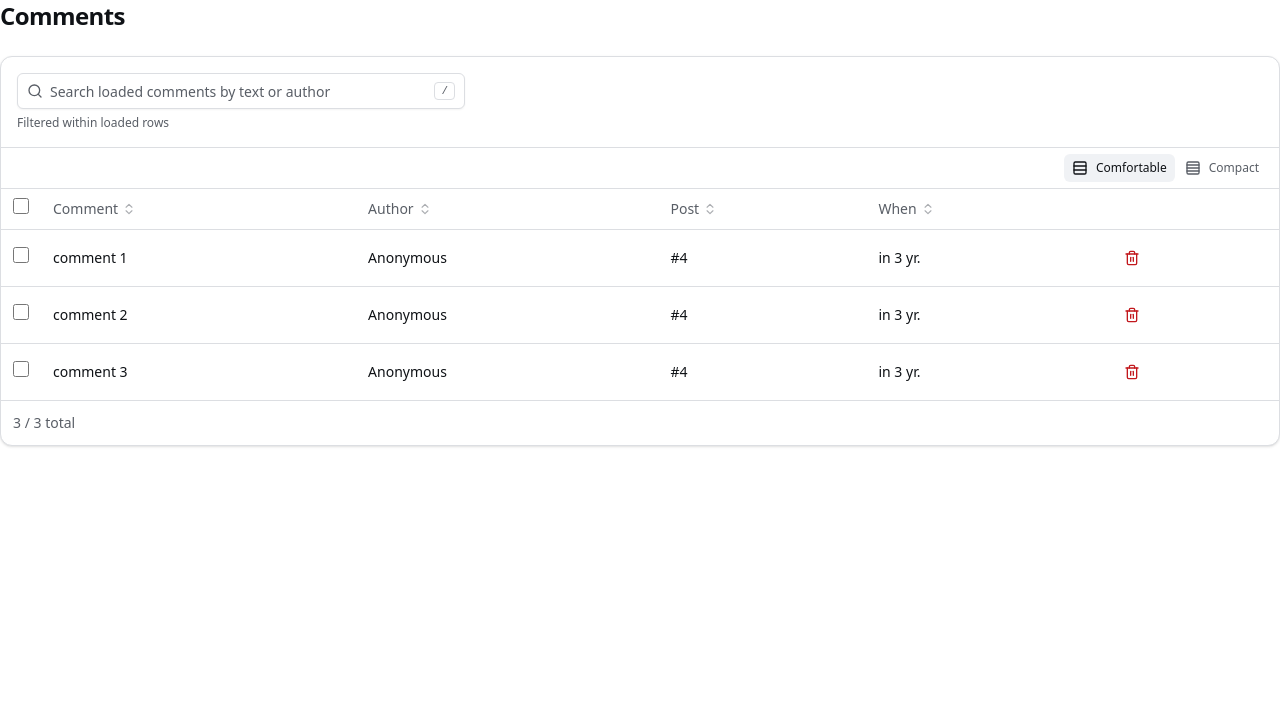
Test: CommentsPage › reports partial failure once and re-selects only the failed rows
Step 1. Click the checkbox named "Select all rows" → (21, 206), box [13,198,29,214]
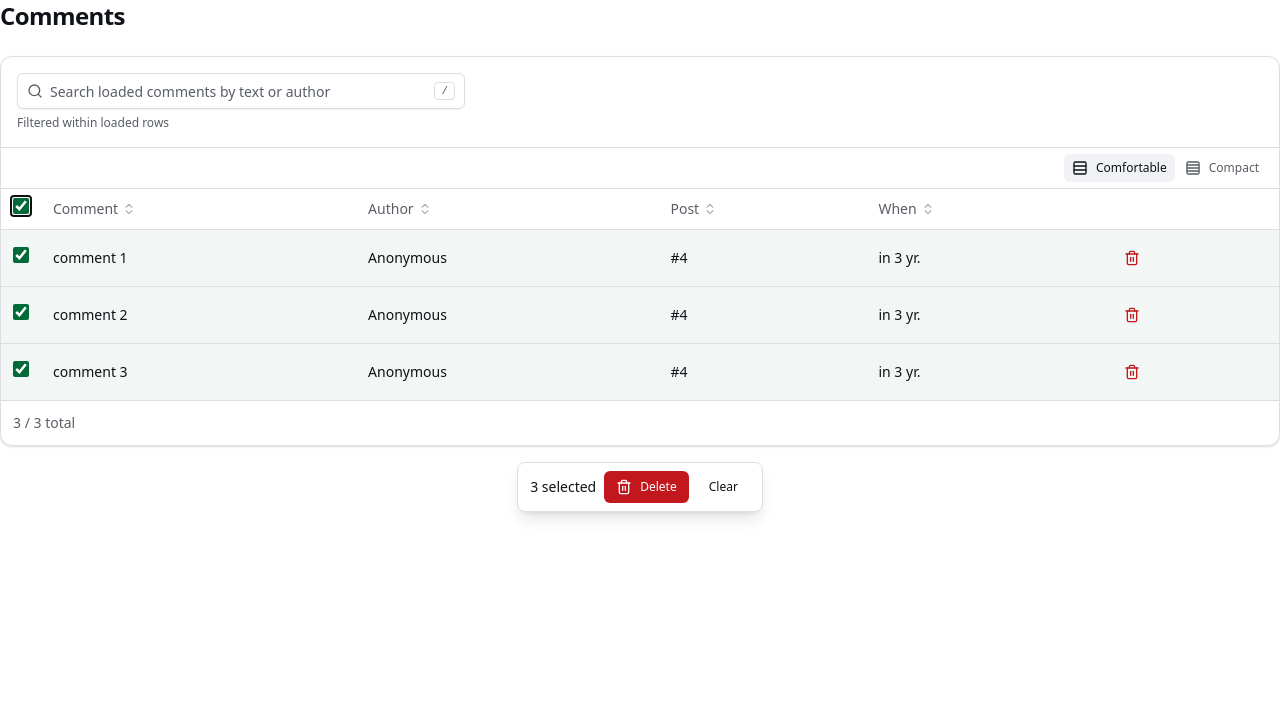
Step 2. Click the button "Delete" → (646, 486), box [604,470,689,502]
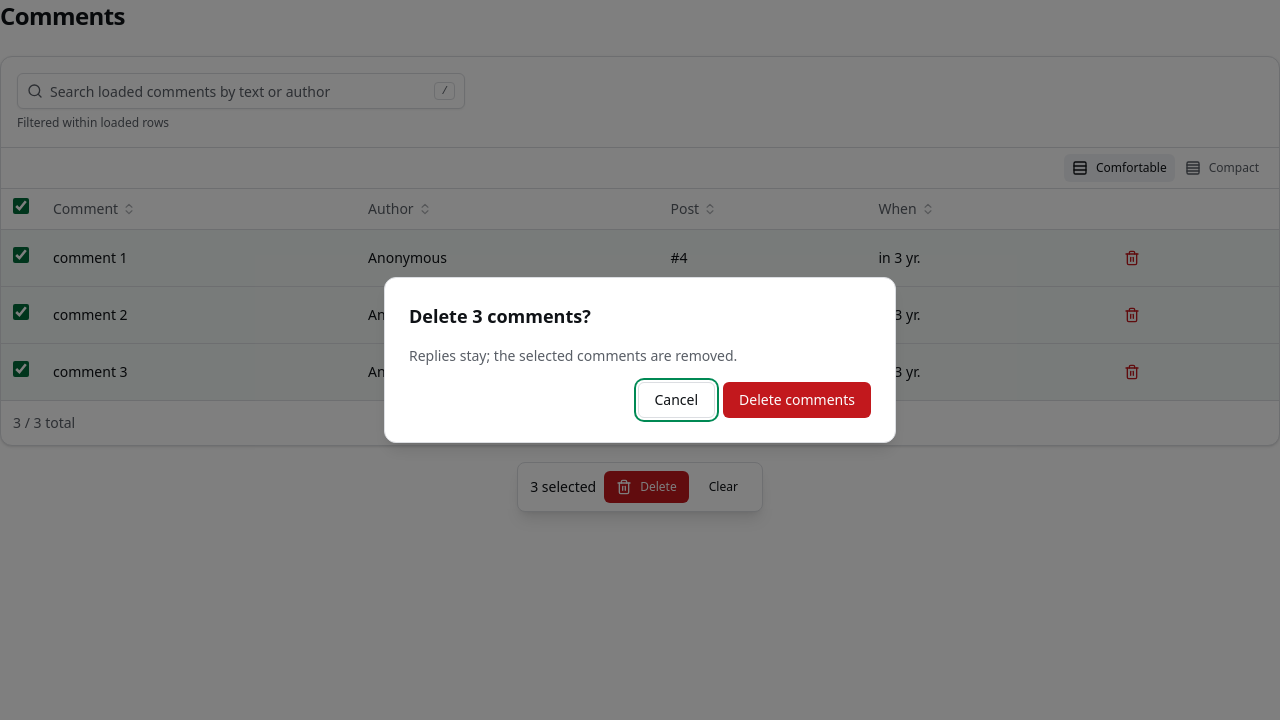
Step 3. Click the button "Delete comments" → (797, 400), box [723,382,871,418]
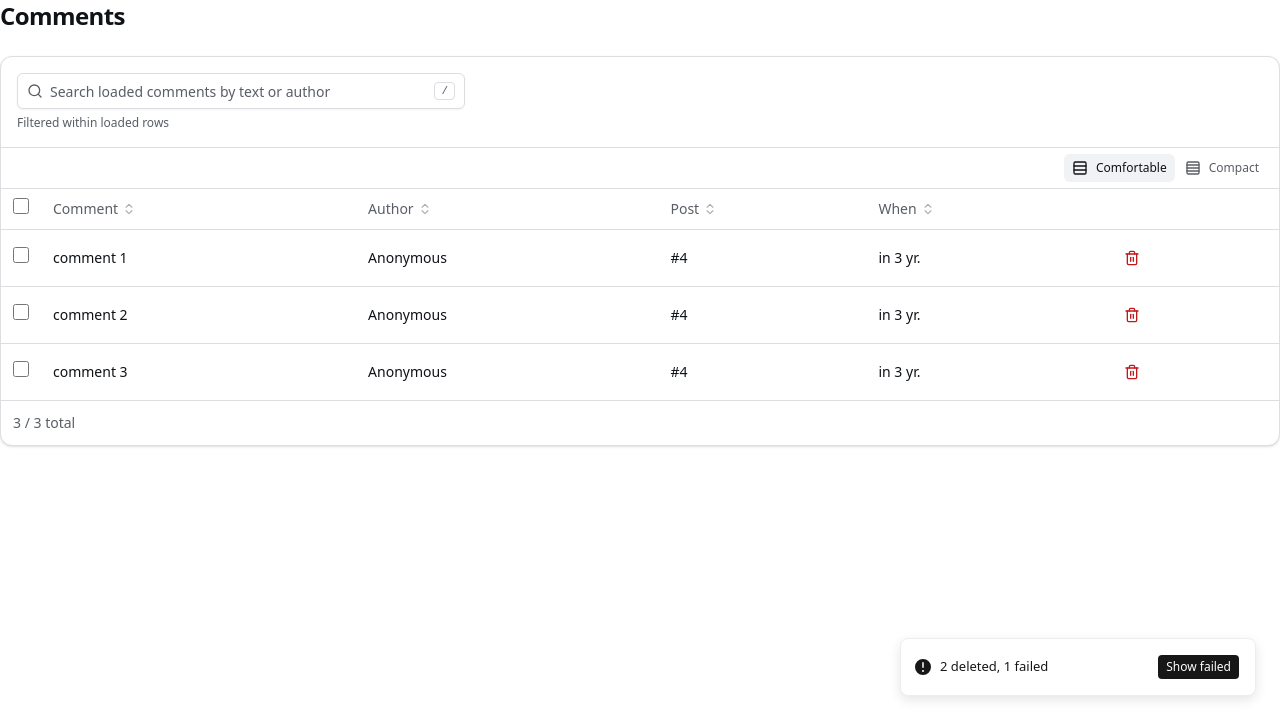
Result: the text "2 deleted, 1 failed" is shown at [940,657,1048,677]
Step 4. Click the button "Show failed" → (1199, 667), box [1158,655,1239,679]
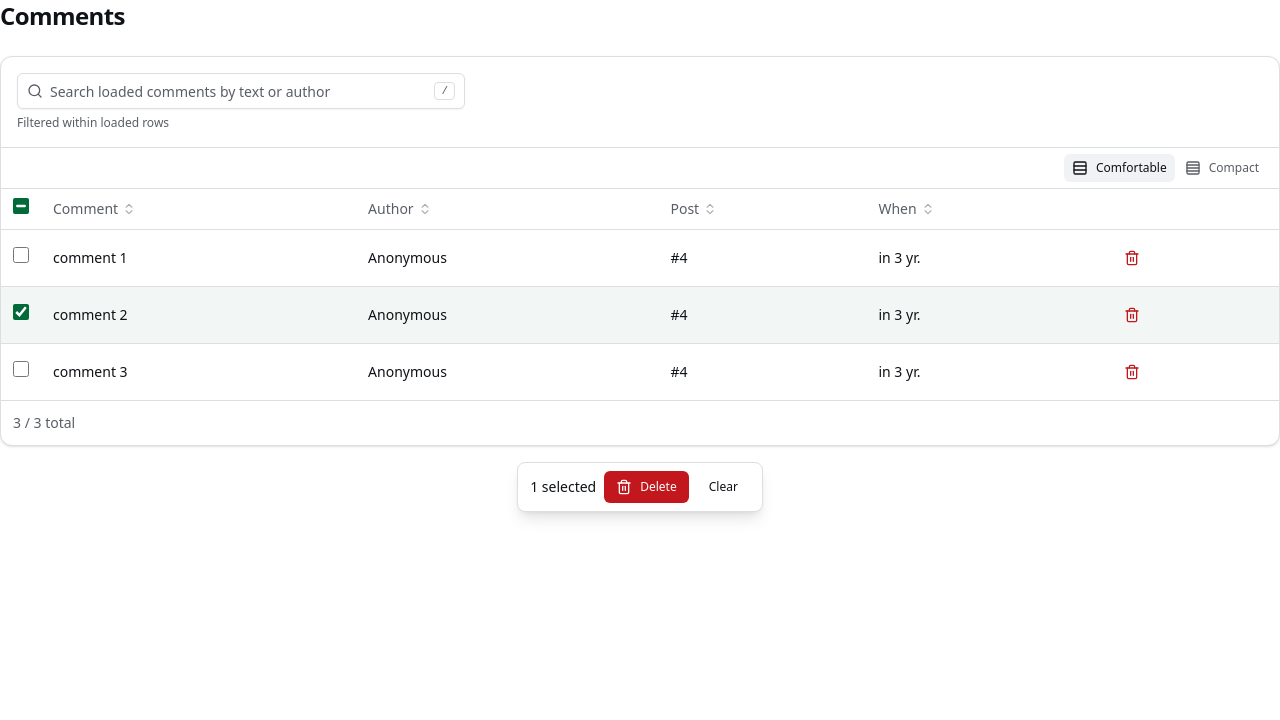
Result: the element named "Bulk actions" shows "1 selected" at [530,476,596,496]
Result: the checkbox named "Select row #2" is checked at [13,304,29,320]
